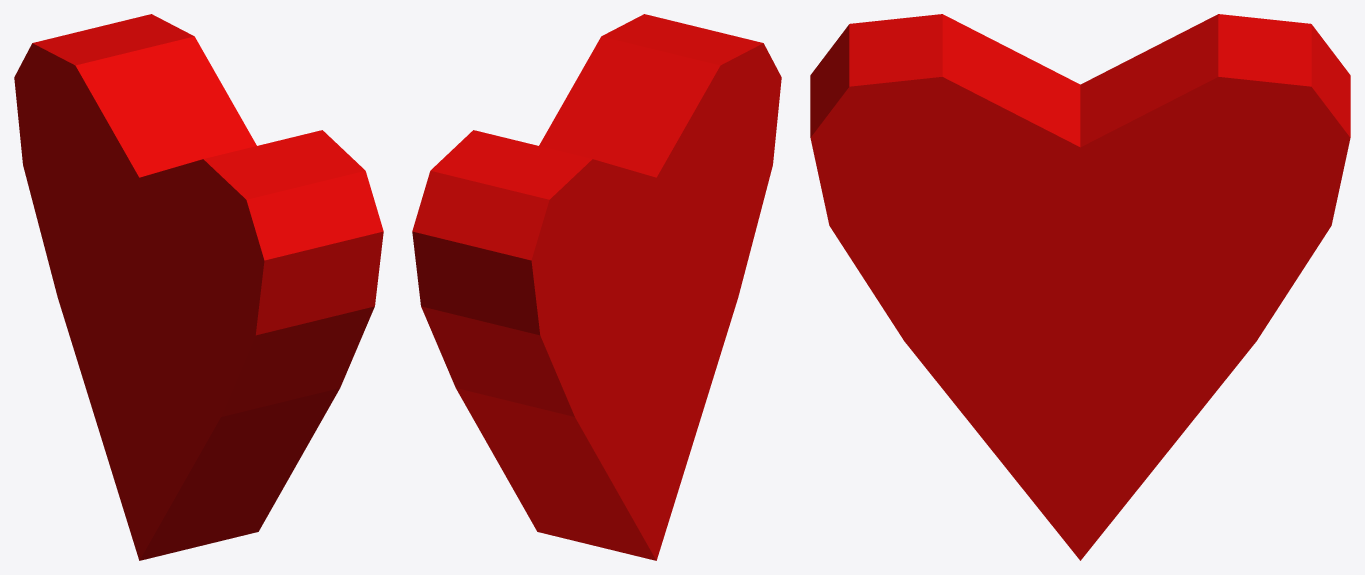
The model's file is heart.fbx.
3 views of the same model, side by side, from view 1: azimuth 30°, elevation 25°; view 2: azimuth 150°, elevation 25°; view 3: azimuth 270°, elevation 25° (orthographic). The views are drawn at different scales.
Parts seen in each view (by area): view 1: heart; view 2: heart; view 3: heart.
Boxes of the visible parts, x1=… form: heart: x1=14, y1=14, x2=383, y2=560; heart: x1=412, y1=14, x2=781, y2=560; heart: x1=810, y1=14, x2=1350, y2=560.
Size of the model in its own units: 51.16 by 184 by 186.
